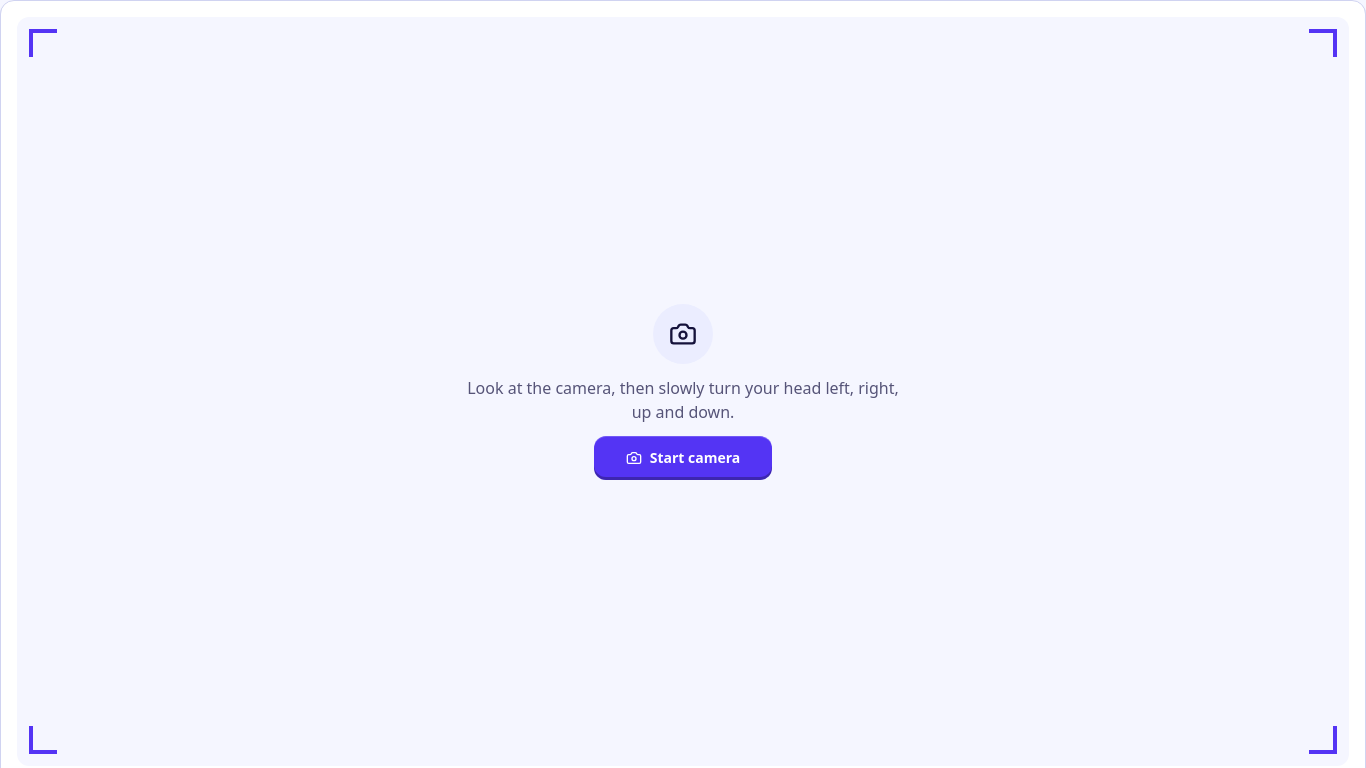
it: CameraCapture › says so when there is no camera
Click the button "Start camera": x=683, y=458 [594,436,772,480]
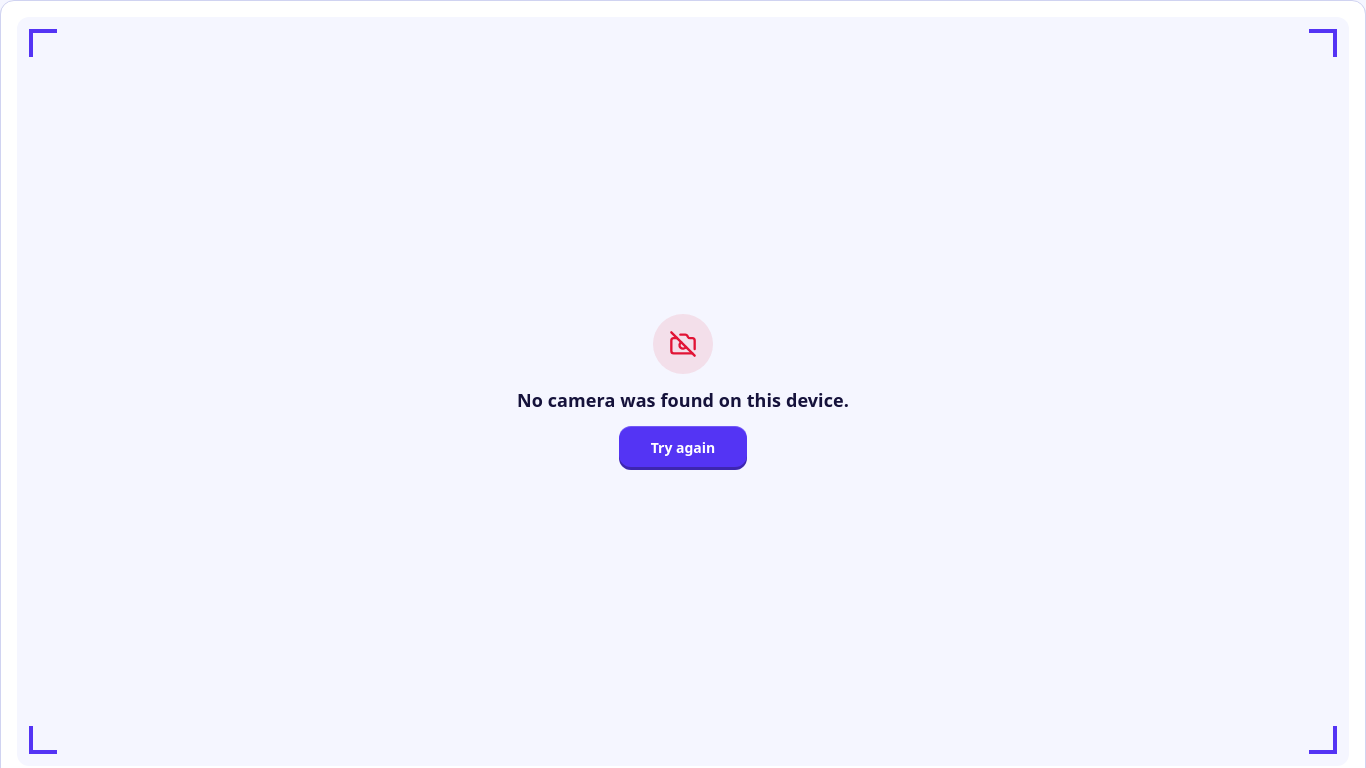
Expected: the heading "No camera was found on this device." is shown, [517,386,849,414]
